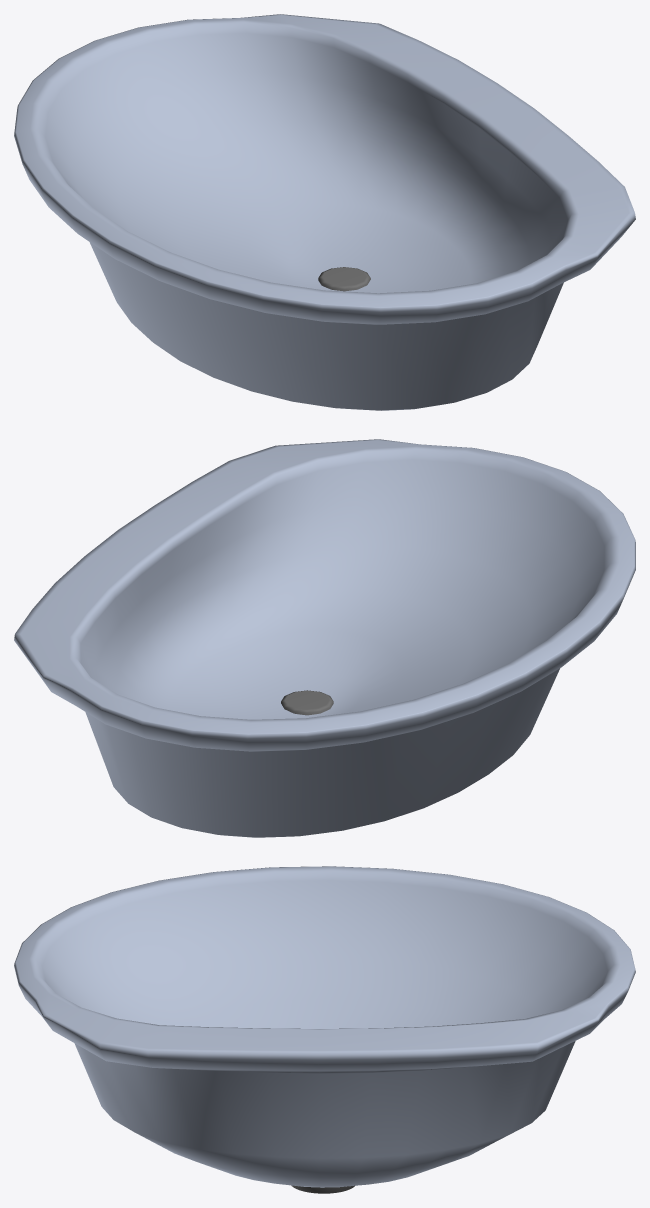
The model's file is GlassSink.fbx.
3 views of the same model, one above another, from view 1: azimuth 30°, elevation 25°; view 2: azimuth 150°, elevation 25°; view 3: azimuth 270°, elevation 25° (orthographic). The views are drawn at different scales.
Parts seen in each view (by area): view 1: Sphere.147; view 2: Sphere.147; view 3: Sphere.147.
Boxes of the visible parts, x1,y1,x2,y2 form: Sphere.147: [14, 14, 635, 410]; Sphere.147: [14, 439, 635, 837]; Sphere.147: [14, 866, 635, 1193].
Size of the model in its own units: 39.08 by 19.31 by 54.14.
